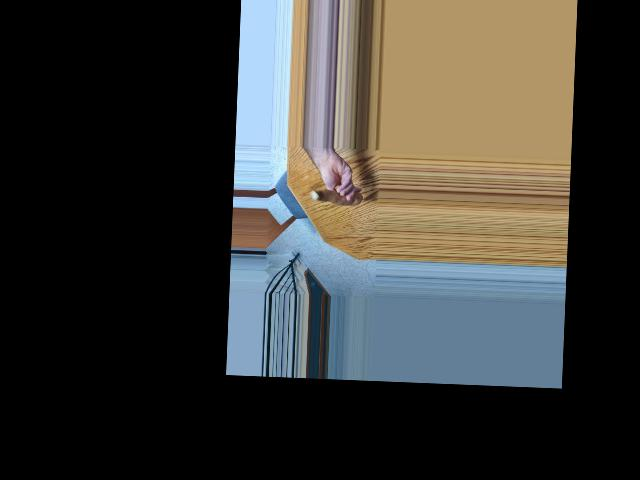sweet_potato: (309, 184, 361, 206)
